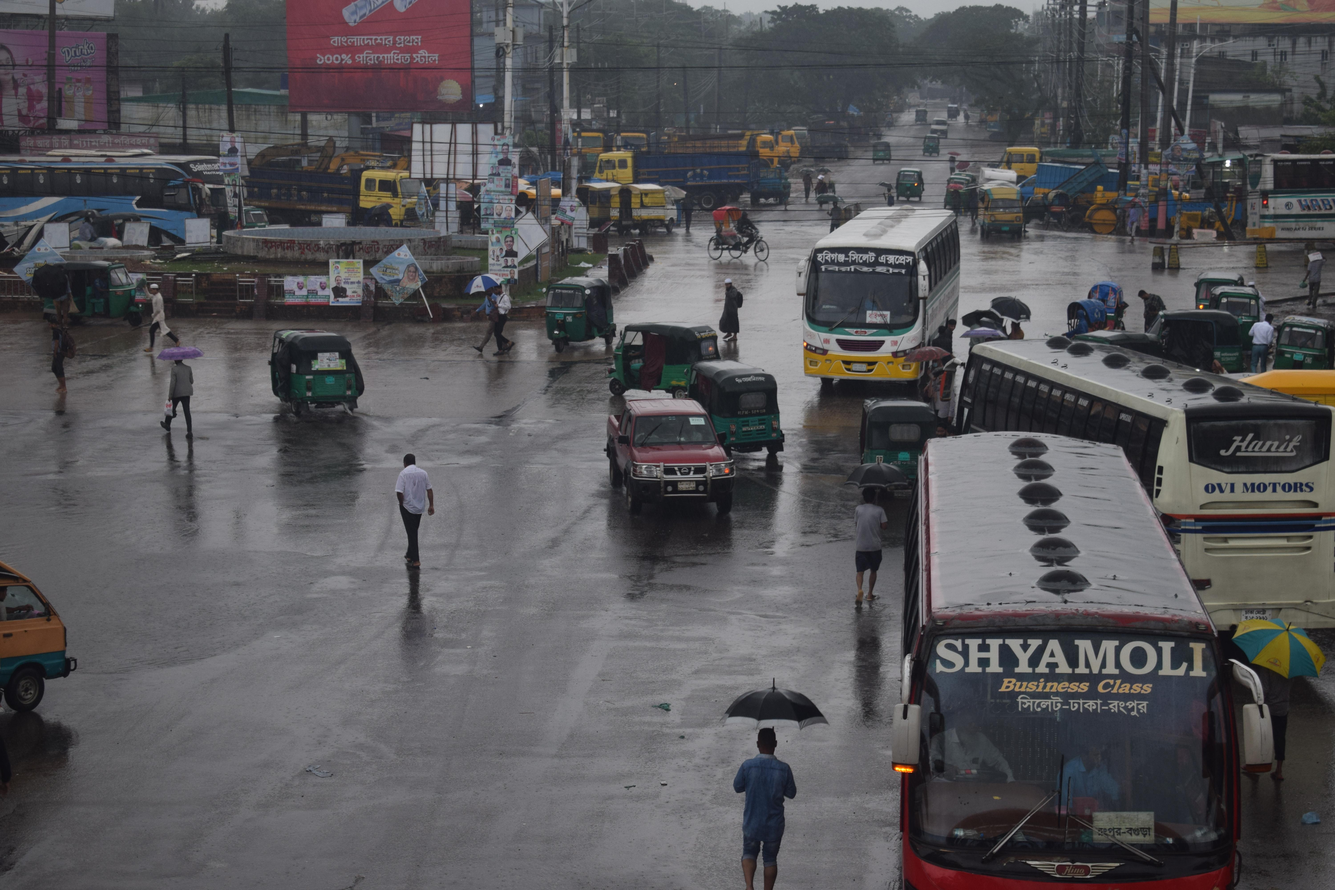Bus: (861, 399, 1249, 890), (928, 303, 1335, 659), (763, 190, 993, 400), (0, 134, 229, 284), (1220, 127, 1335, 255)
Car: (0, 528, 110, 754), (698, 195, 787, 270)
Truck: (229, 142, 428, 238), (578, 145, 794, 217)
